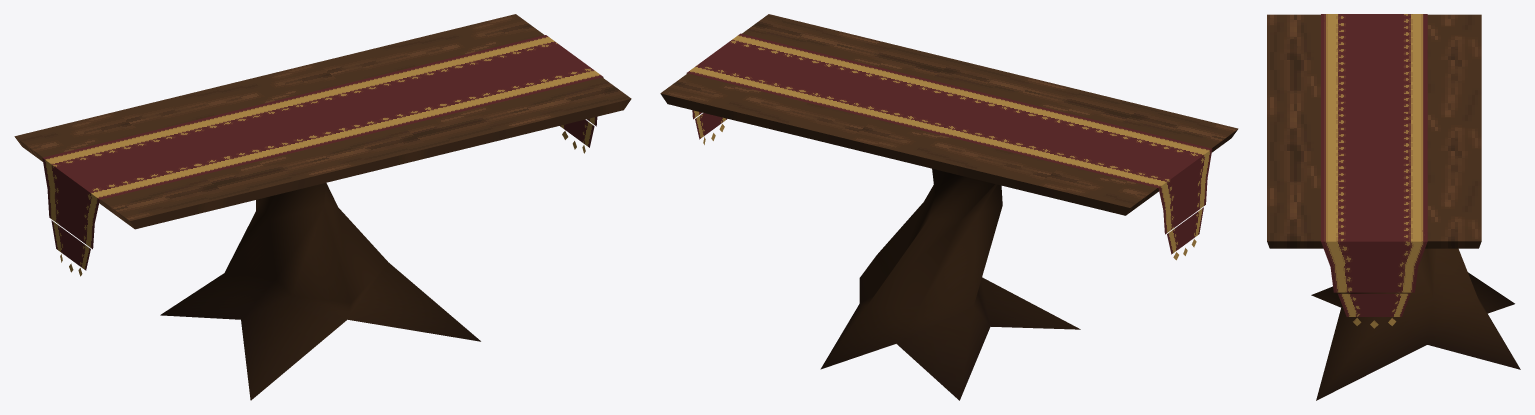
File: TABLE.fbx
3 renders of one model, left to right at view 1: azimuth 30°, elevation 25°; view 2: azimuth 150°, elevation 25°; view 3: azimuth 270°, elevation 25°, orthographic. The views are drawn at different scales.
Parts seen in each view (by area): view 1: Table, Cloth, Trunk; view 2: Table, Cloth, Trunk; view 3: Cloth, Table, Trunk.
Part boxes in pixels (x1,y1,x2,y2): Table: (14,14,631,229); Cloth: (42,35,603,276); Trunk: (160,183,480,400); Table: (660,14,1238,215); Cloth: (686,33,1212,260); Trunk: (820,168,1080,400); Cloth: (1321,14,1427,328); Table: (1267,14,1481,248); Trunk: (1311,248,1520,400).
Size of the model in its own units: 75.61 by 33.23 by 35.5.
